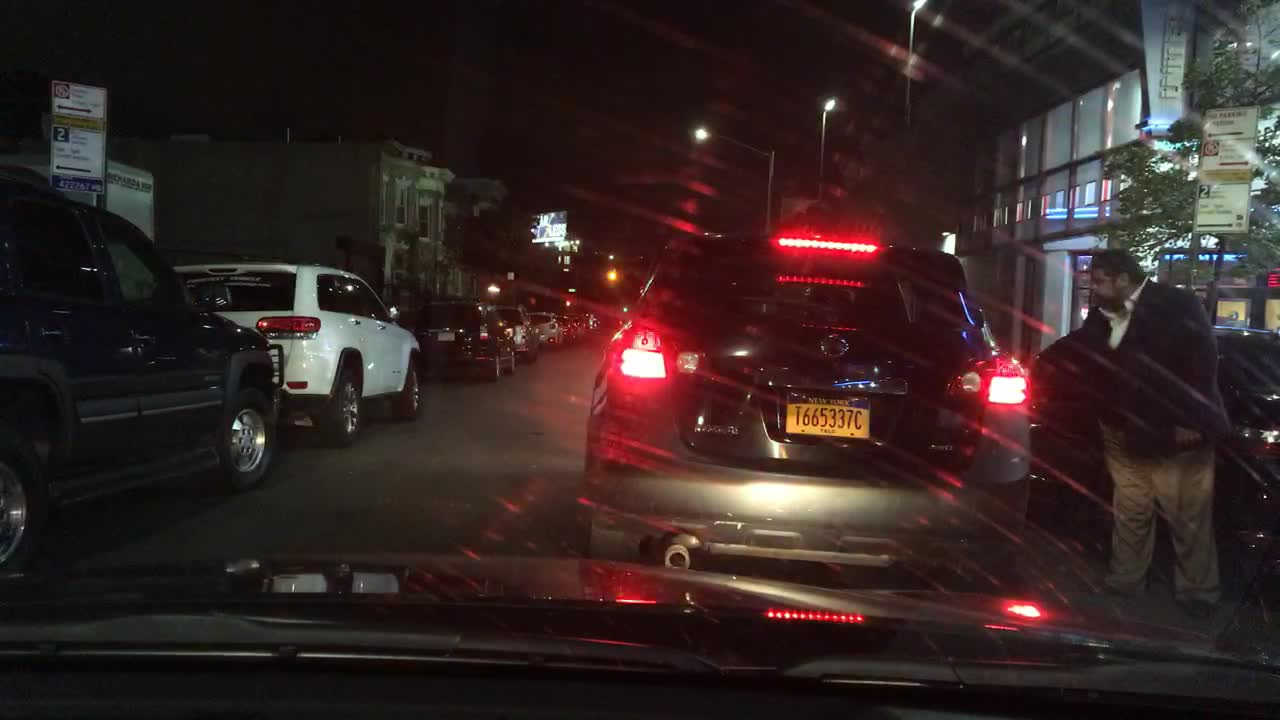car: (585, 220, 1035, 618), (0, 166, 278, 586), (1016, 318, 1278, 588), (173, 255, 424, 449), (411, 296, 520, 383), (486, 302, 543, 367), (524, 308, 567, 352), (552, 312, 583, 346), (568, 312, 593, 337), (581, 312, 602, 331)
person: (1078, 248, 1225, 618)
traffic sign: (1193, 103, 1264, 231), (53, 129, 107, 200), (50, 75, 108, 129)
